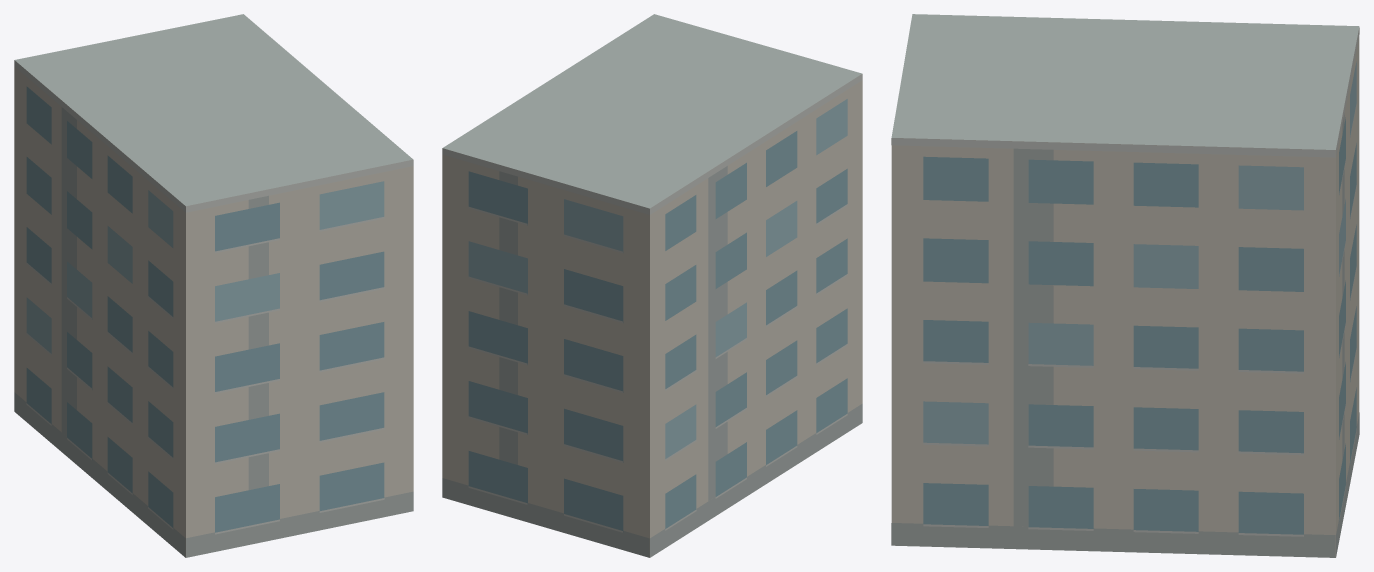
The model's file is survey-upis-32886751.glb.
3 renders of one model, left to right at view 1: azimuth 30°, elevation 25°; view 2: azimuth 150°, elevation 25°; view 3: azimuth 270°, elevation 25°, orthographic. The views are drawn at different scales.
Parts seen in each view (by area): view 1: survey-upis-32886751.tmp; view 2: survey-upis-32886751.tmp; view 3: survey-upis-32886751.tmp.
Part boxes in pixels (x1,y1,x2,y2): survey-upis-32886751.tmp: (14, 14, 413, 557); survey-upis-32886751.tmp: (442, 14, 862, 557); survey-upis-32886751.tmp: (891, 14, 1359, 557).
Size of the model in its own units: 9.45 by 13.2 by 13.74.
